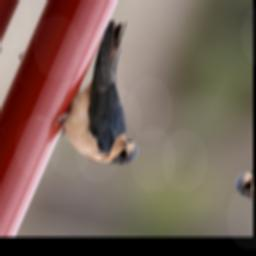Swallow: (37, 14, 193, 173)
